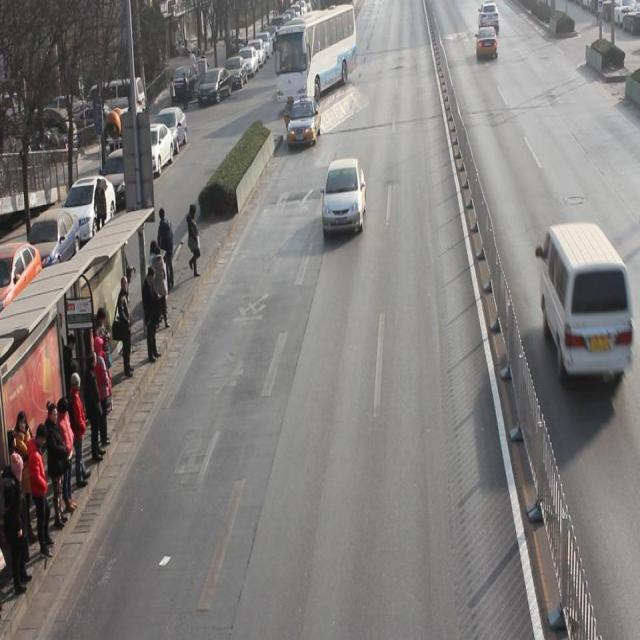car: (322, 157, 368, 233), (287, 96, 321, 148), (476, 25, 499, 63)
truck: (541, 222, 640, 387)
van: (275, 8, 357, 98)
